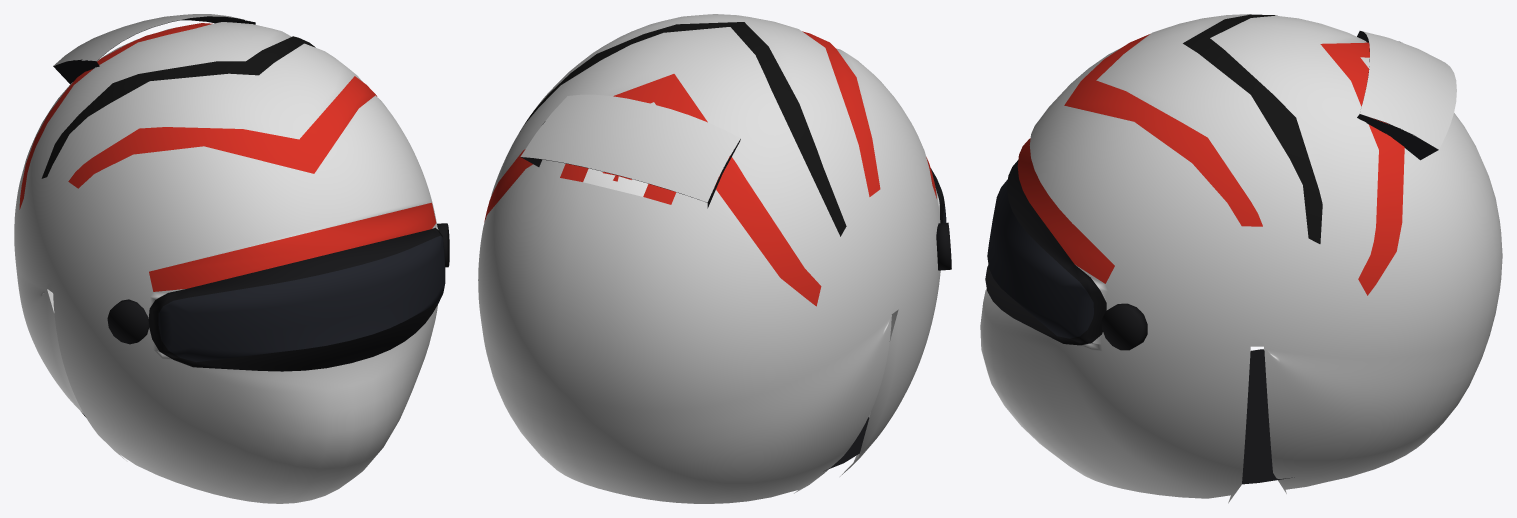
Rendered from STR.glb.
The picture shows the model from 3 angles, left to right: view 1: azimuth 30°, elevation 25°; view 2: azimuth 150°, elevation 25°; view 3: azimuth 270°, elevation 25°; orthographic projection. The views are drawn at different scales.
Parts seen in each view (by area): view 1: helmet; view 2: helmet; view 3: helmet.
Part boxes in pixels (box(x1,y1,x2,y2)): helmet: box(14, 14, 449, 503); helmet: box(478, 14, 951, 503); helmet: box(980, 14, 1502, 503).
Bounding box in the file's own units: 0.256 × 0.2772 × 0.3111.
